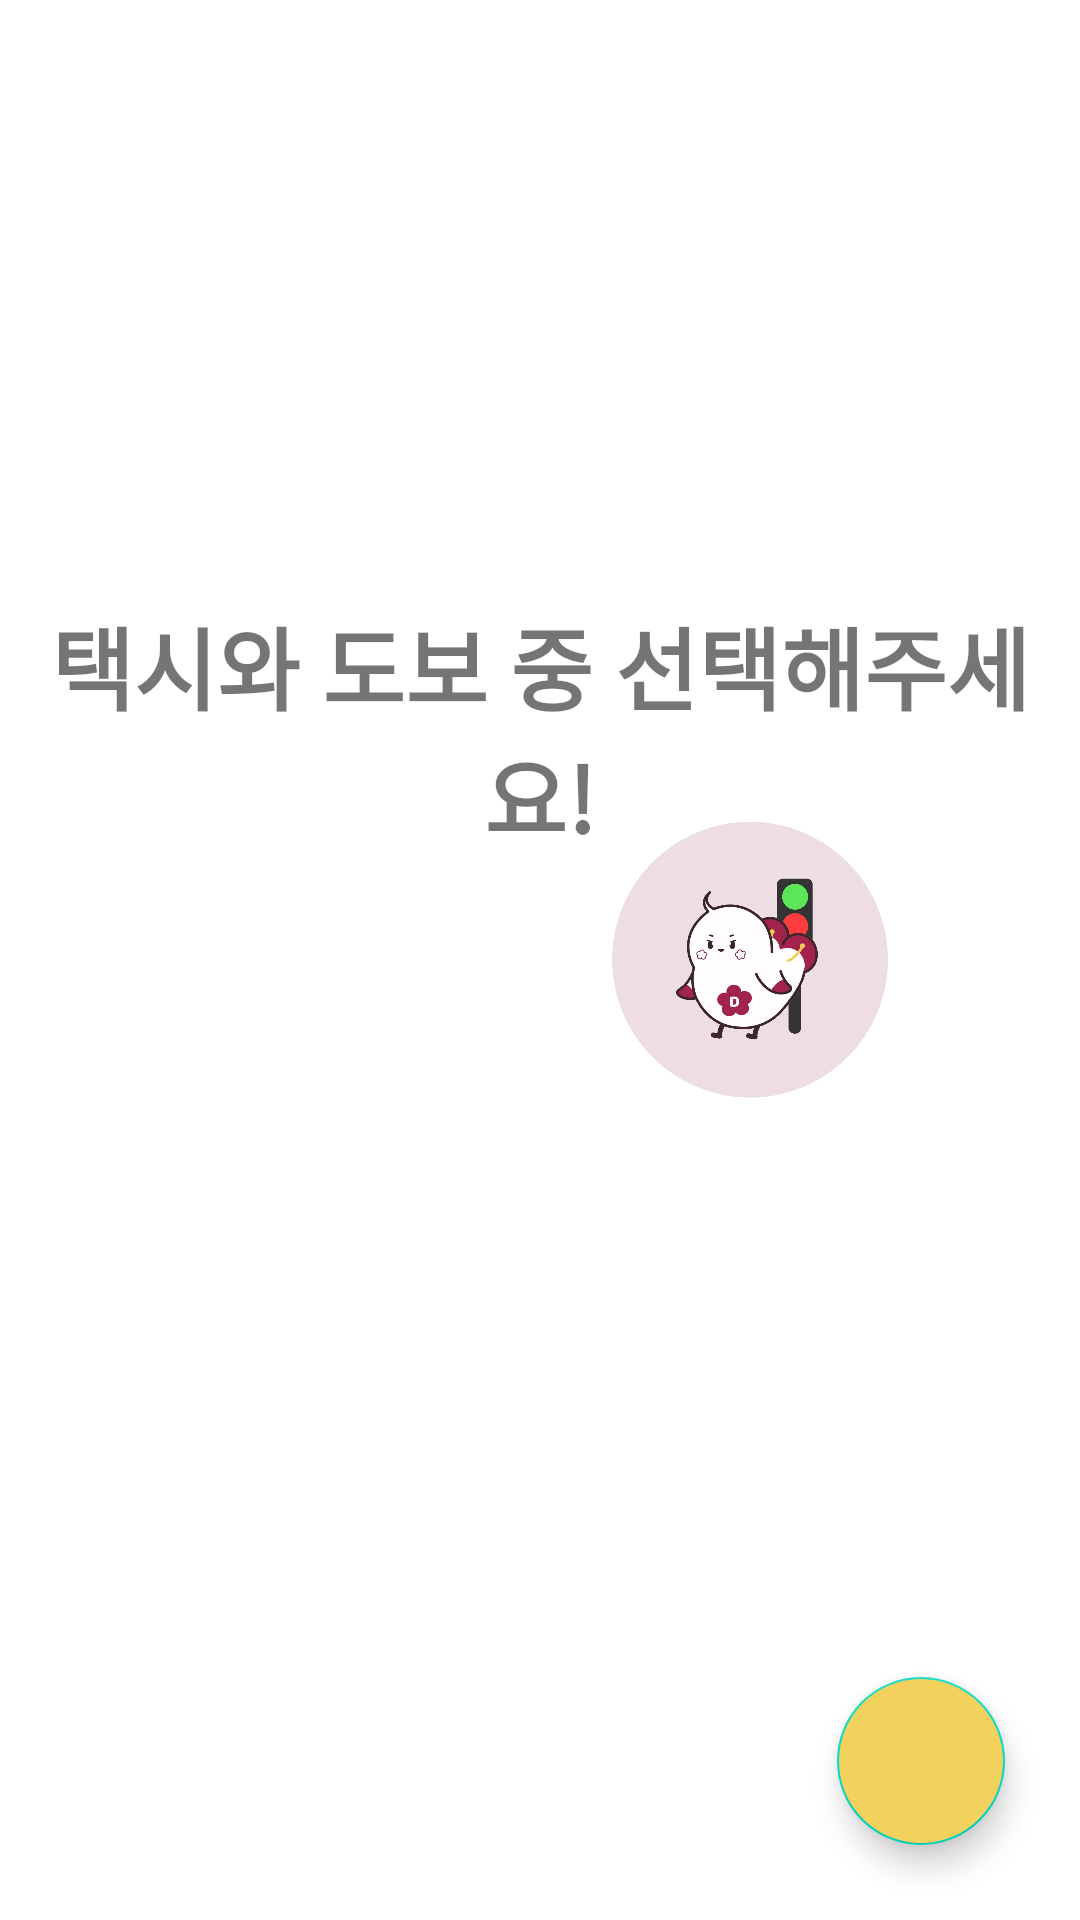

Where to tap for icons on this 1080px x 1920px app screen, as (x=x, y=y):
by walk: (x=750, y=960)
